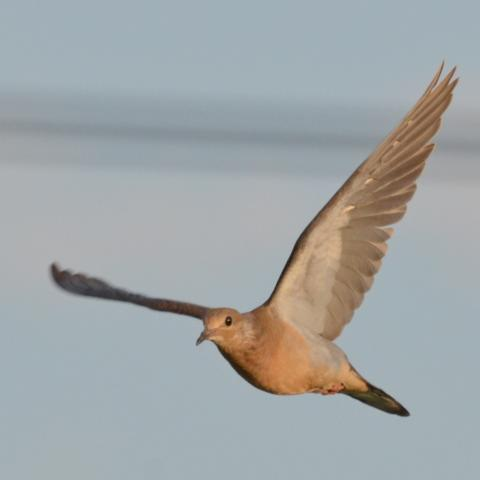bird: (46, 58, 461, 420)
